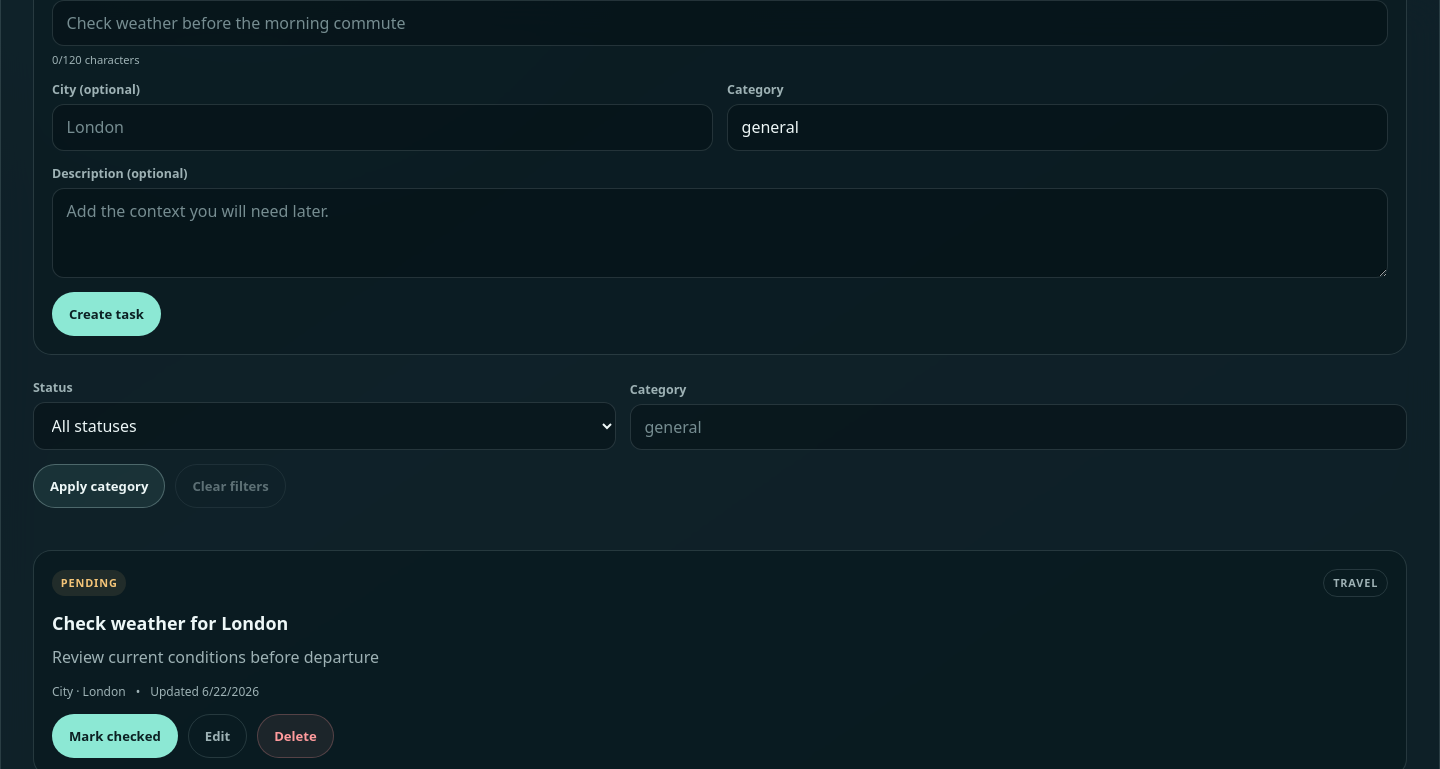
task workspace › updates task status through the lowercase request mapping
(page scrolled)
Click the button "Mark checked" at (115, 736), box x1=52 y1=714 x2=178 y2=758
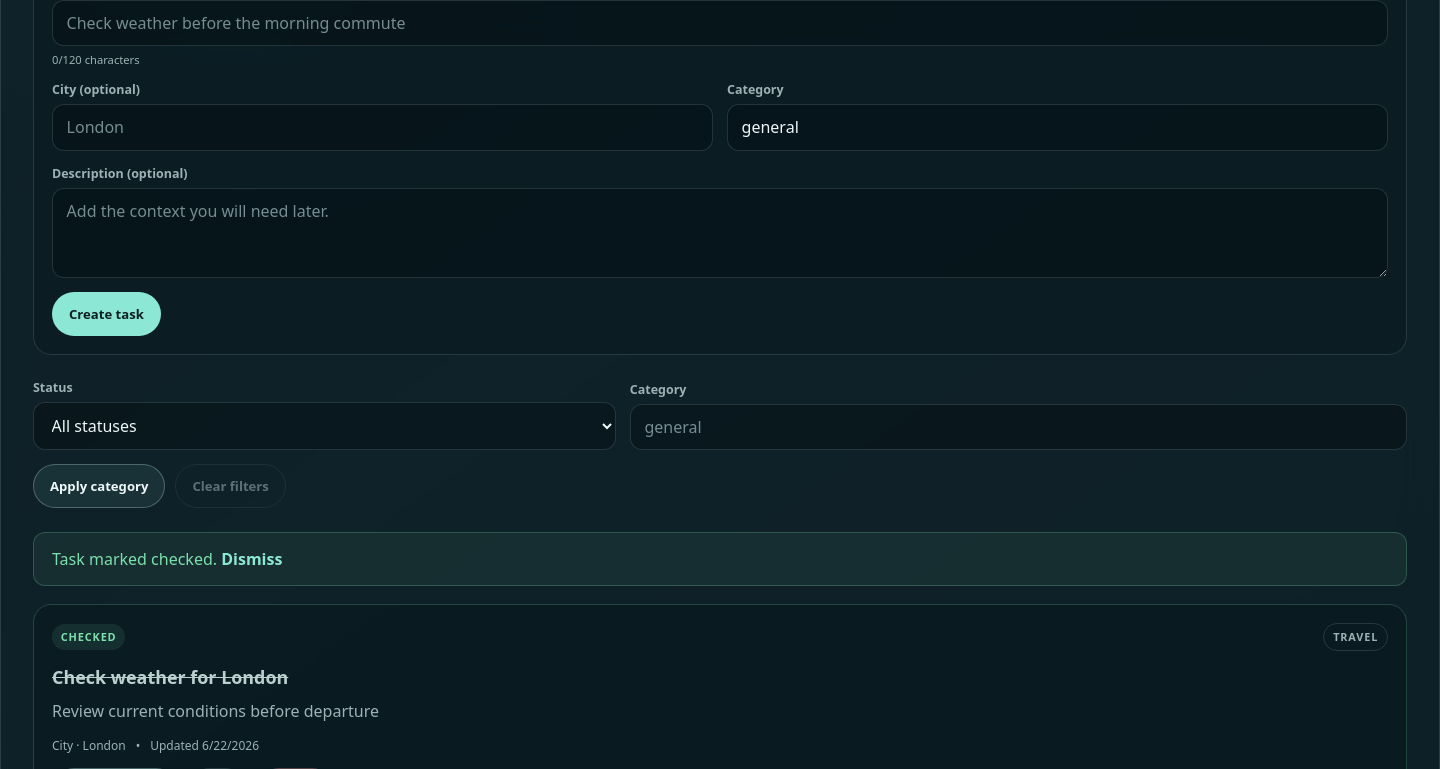
Check: the text "Task marked checked." is shown, box x1=52 y1=548 x2=217 y2=570
Check: the text "Checked" is shown, box x1=52 y1=624 x2=125 y2=650
